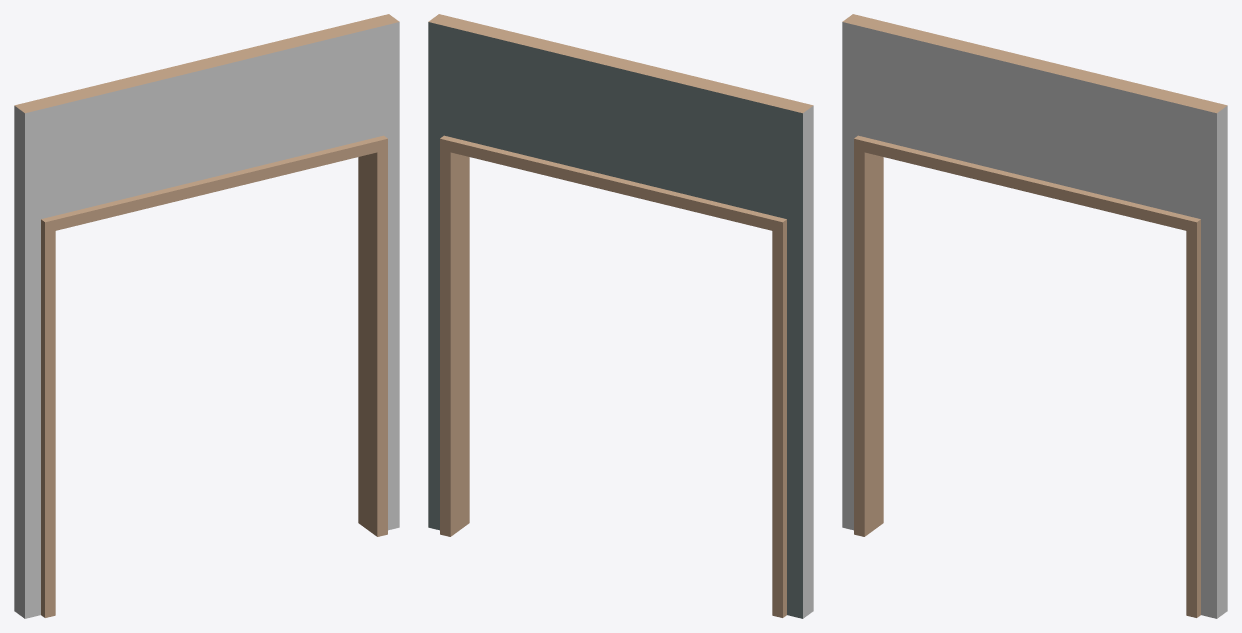
Rendered from wallDoorwayWide.glb.
3 renders of one model, left to right at view 1: azimuth 30°, elevation 25°; view 2: azimuth 150°, elevation 25°; view 3: azimuth 330°, elevation 25°, orthographic.
Visible parts, largest first — view 1: wallDoorwayWide; view 2: wallDoorwayWide; view 3: wallDoorwayWide.
Part boxes in pixels (<box>): wallDoorwayWide: <box>14,14,399,618</box>; wallDoorwayWide: <box>428,14,813,618</box>; wallDoorwayWide: <box>842,14,1227,618</box>.
Size of the model in its own units: 1 by 1.29 by 0.0891.
